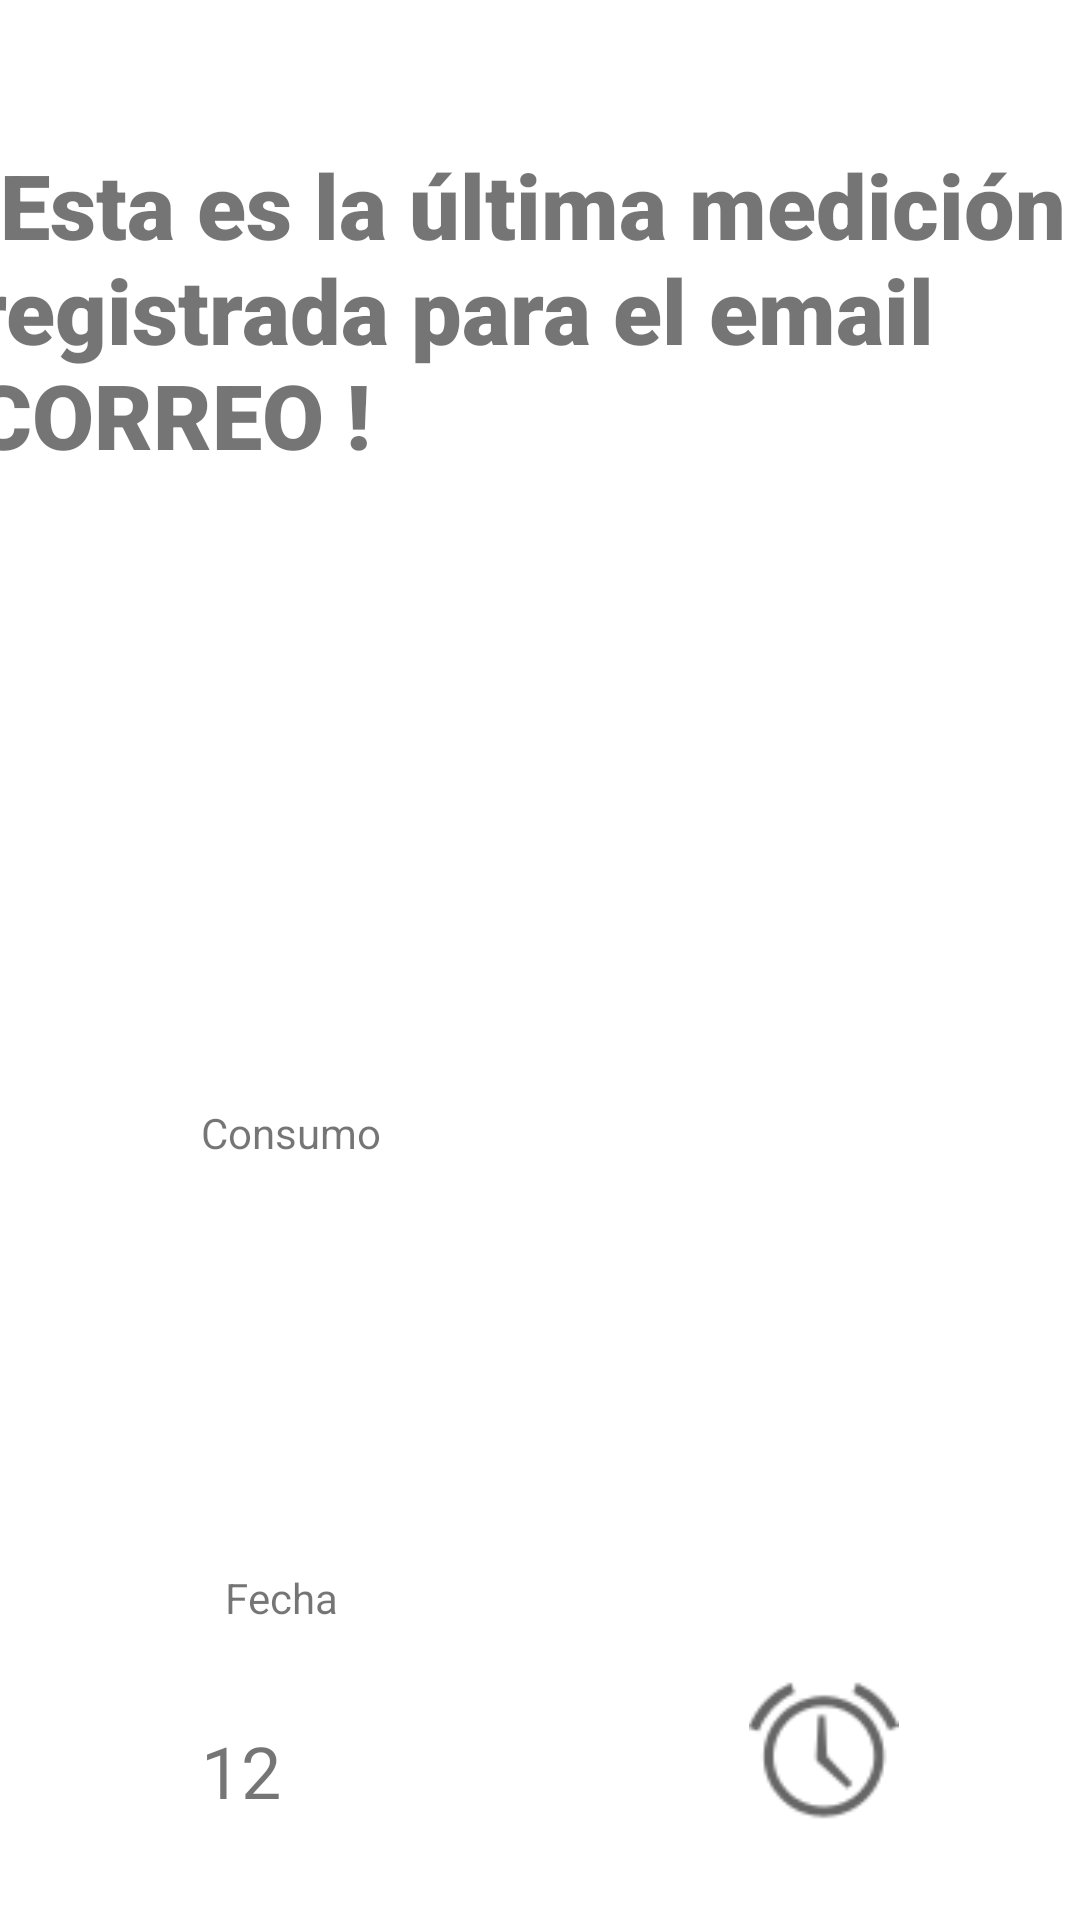

Icons on this 1080px×1920px Android screen, each with its box as rect(x1, y1, x2, y2):
lock idle alarm: rect(749, 1682, 899, 1818)
